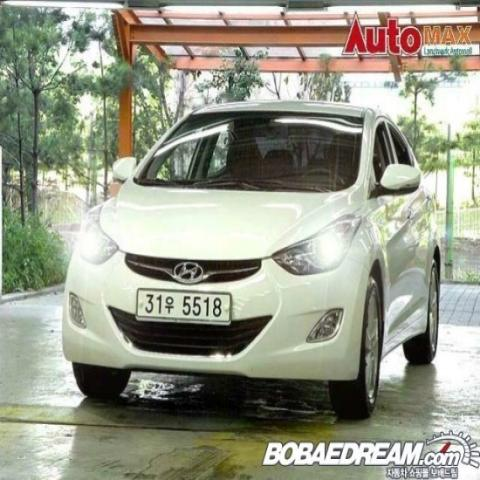LP: (130, 279, 237, 333)
